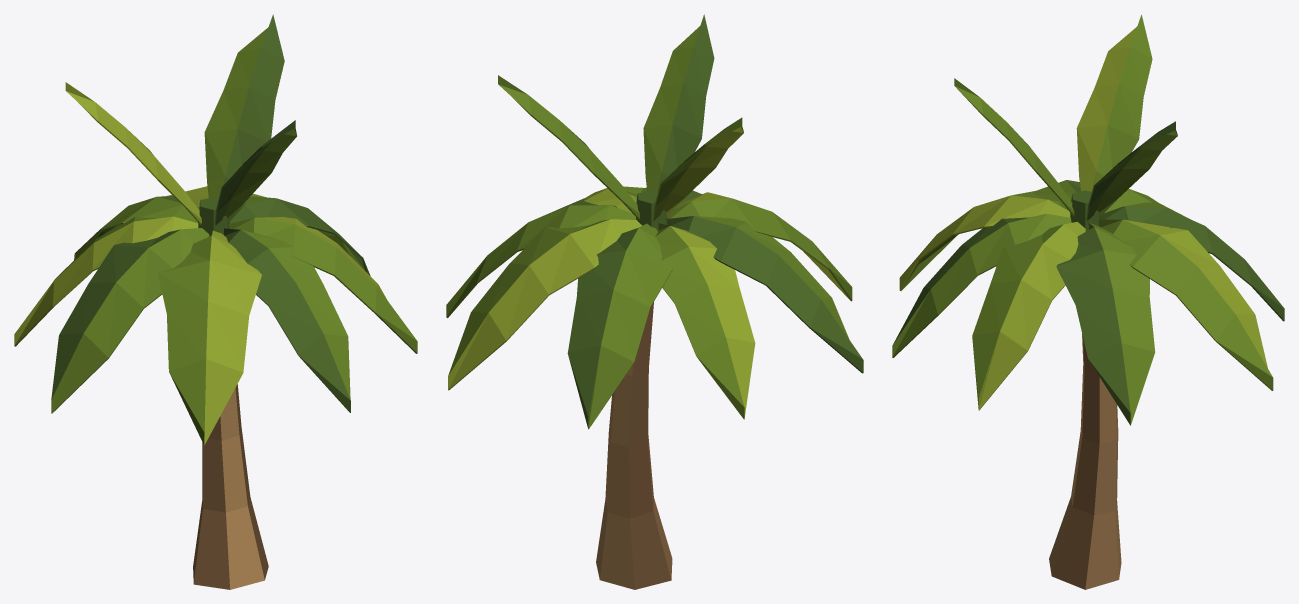
Rendered from palm_c_far.glb.
The picture shows the model from 3 angles, left to right: view 1: azimuth 30°, elevation 25°; view 2: azimuth 150°, elevation 25°; view 3: azimuth 270°, elevation 25°; orthographic projection. The views are drawn at different scales.
Visible parts, largest first — view 1: body; view 2: body; view 3: body.
Part boxes in pixels (x1,y1,x2,y2): body: [14, 14, 417, 589]; body: [446, 14, 863, 589]; body: [892, 14, 1284, 589].
Bounding box in the file's own units: 3.32 × 4.37 × 3.16.
